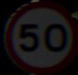Speed limit: (6, 3, 71, 63)
